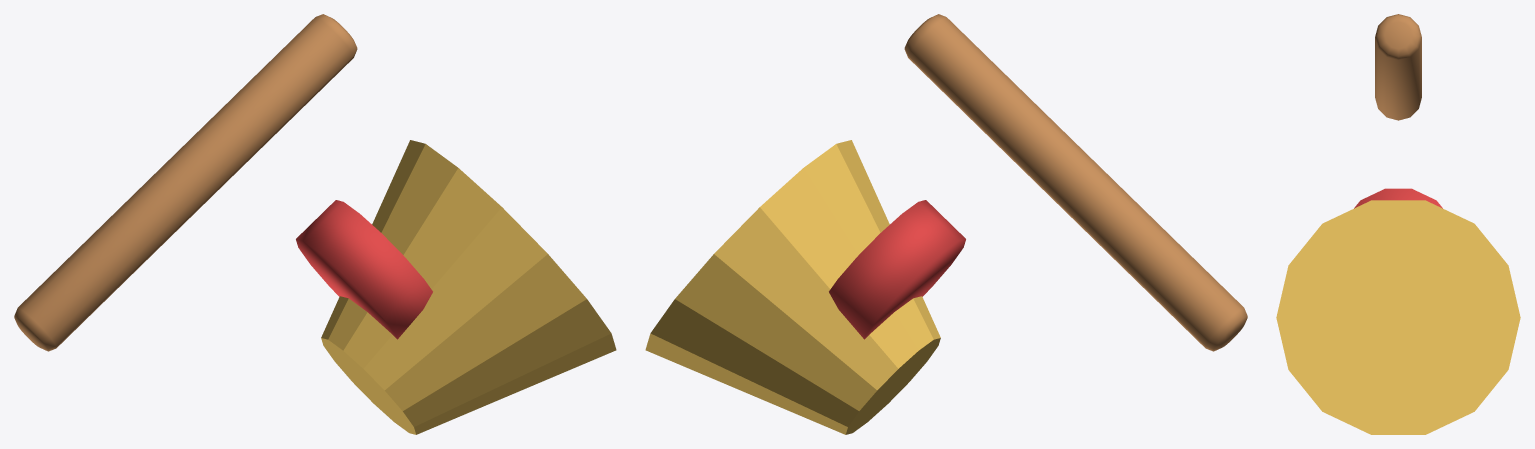
Rendered from ui_tidy.glb.
3 renders of one model, left to right at view 1: azimuth 30°, elevation 25°; view 2: azimuth 150°, elevation 25°; view 3: azimuth 270°, elevation 25°, orthographic. The views are drawn at different scales.
Visible parts, largest first — view 1: ui_tidy; view 2: ui_tidy; view 3: ui_tidy.
Boxes of the visible parts, bbox=[...] form: ui_tidy: bbox=[14, 14, 616, 434]; ui_tidy: bbox=[645, 14, 1247, 434]; ui_tidy: bbox=[1276, 14, 1520, 434].
Bounding box in the file's own units: 1.15 × 0.8354 × 0.52.
